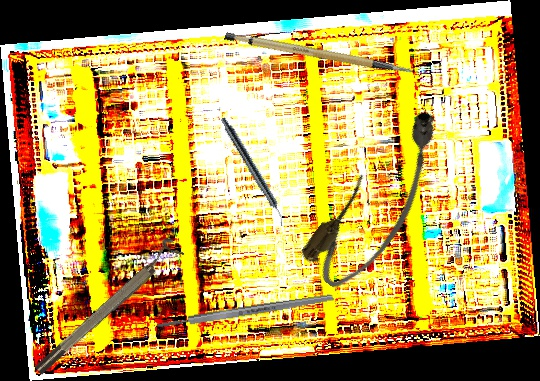Cannula: (294, 101, 467, 299)
Fixation Ring: (26, 235, 186, 378)
Handpiece: (217, 115, 290, 228)
Scalpel Handle: (223, 7, 413, 104), (155, 292, 335, 331)
